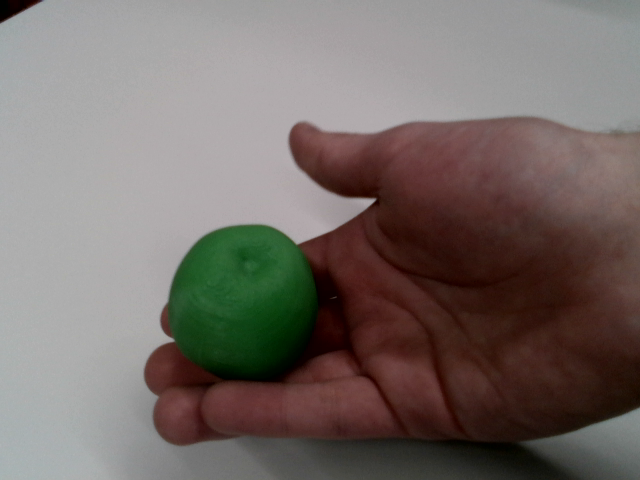green apple: (168, 225, 317, 380)
